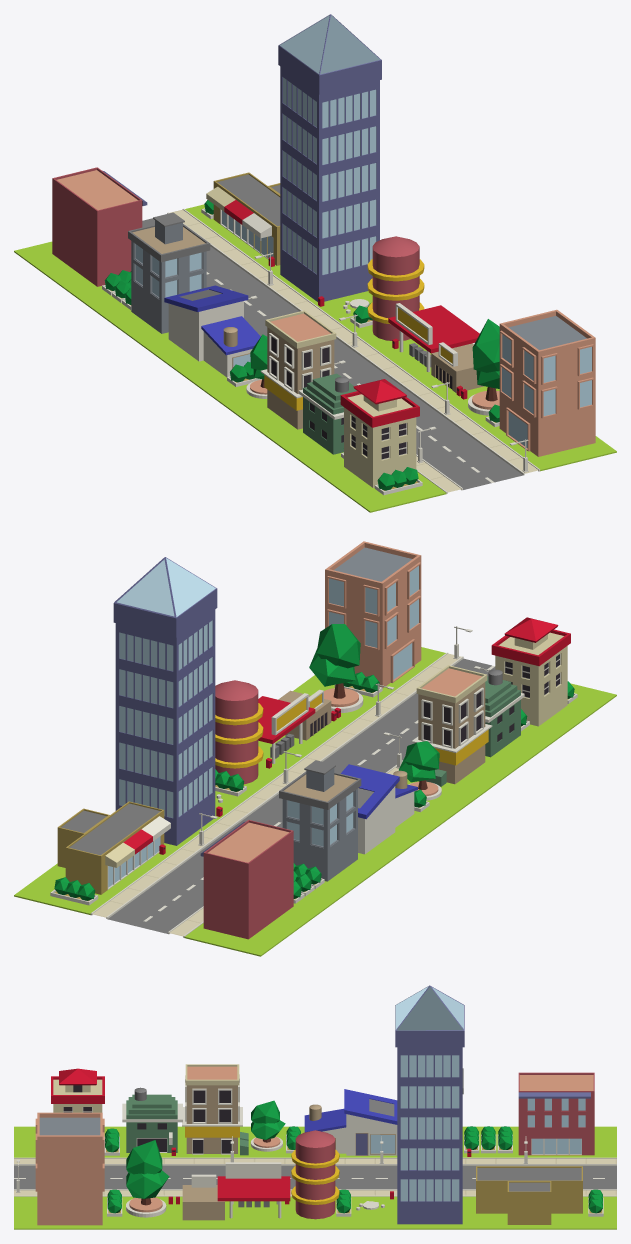
3 renders of one model, top to bottom at view 1: azimuth 30°, elevation 25°; view 2: azimuth 150°, elevation 25°; view 3: azimuth 270°, elevation 25°, orthographic. The views are drawn at different scales.
Parts seen in each view (by area): view 1: 右屋4, 右屋1, 草地, 平面, 左屋6身, 左屋1, 草地_2, 左屋4, 左屋3, 立方体_22, 人行道2, 左屋5身 (+14 smaller); view 2: 右屋4, 草地, 右屋1, 左屋6身, 平面, 草地_2, 左屋3, 立方体_23, 左屋1, 立方体_22, 左屋5身, 人行道2 (+16 smaller); view 3: 右屋4, 草地_2, 右屋1, 左屋6身, 立方体_23, 左屋3, 平面, 左屋4, 草地, 立方体_22, 圆柱, 左屋身 (+21 smaller).
Part boxes in pixels (x1,y1,x2,y2): 右屋4: (280, 66, 379, 301); 右屋1: (499, 309, 595, 456); 草地: (14, 241, 446, 512); 平面: (142, 218, 523, 489); 左屋6身: (52, 167, 142, 286); 左屋1: (340, 379, 419, 487); 草地_2: (185, 204, 616, 471); 左屋4: (164, 285, 260, 377); 左屋3: (260, 310, 336, 429); 立方体_22: (278, 14, 381, 94); 人行道2: (170, 209, 538, 473); 左屋5身: (131, 241, 206, 333); 右屋4: (115, 609, 215, 845); 草地: (184, 683, 616, 956); 右屋1: (325, 541, 421, 688); 左屋6身: (203, 820, 293, 939); 平面: (108, 658, 495, 933); 草地_2: (14, 647, 445, 914); 左屋3: (411, 665, 492, 784); 立方体_23: (57, 801, 164, 894); 左屋1: (491, 617, 570, 726); 立方体_22: (113, 557, 217, 637); 左屋5身: (282, 788, 357, 881); 人行道2: (92, 653, 461, 917); 右屋4: (397, 1047, 462, 1224); 草地_2: (14, 1196, 616, 1229); 右屋1: (35, 1112, 104, 1225); 左屋6身: (518, 1072, 594, 1155); 立方体_23: (476, 1166, 582, 1224); 左屋3: (182, 1064, 242, 1154); 平面: (14, 1166, 616, 1189); 左屋4: (304, 1089, 397, 1155); 草地: (14, 1126, 616, 1157); 立方体_22: (395, 985, 464, 1047); 圆柱: (295, 1130, 335, 1219); 左屋身: (126, 1094, 177, 1152).
Bounding box in the file's own units: 4000 × 4164 × 10000.
Materials: 20 (1 with a texture image).
